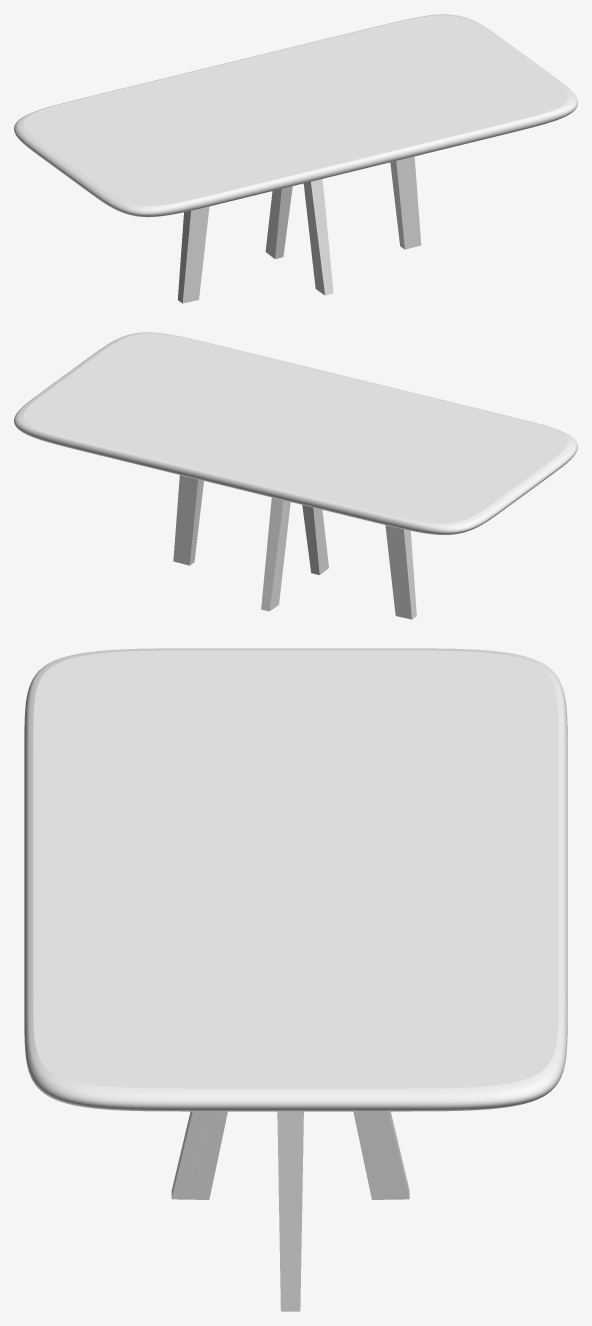
The model's file is purewhite_softrecta_round_searwalnut.glb.
3 views of the same model, one above another, from view 1: azimuth 30°, elevation 25°; view 2: azimuth 150°, elevation 25°; view 3: azimuth 270°, elevation 25° (orthographic). The views are drawn at different scales.
Visible parts, largest first — view 1: round_softrecta, searwalnut; view 2: round_softrecta, searwalnut; view 3: round_softrecta, searwalnut.
Part boxes in pixels (x1,y1,x2,y2): round_softrecta: [14, 14, 577, 217]; searwalnut: [177, 156, 421, 303]; round_softrecta: [14, 332, 577, 534]; searwalnut: [173, 475, 416, 619]; round_softrecta: [24, 648, 567, 1111]; searwalnut: [171, 1111, 409, 1311].
Size of the model in its own units: 7.5 by 2.5 by 3.8.
Materials: 1 (1 with a texture image).
